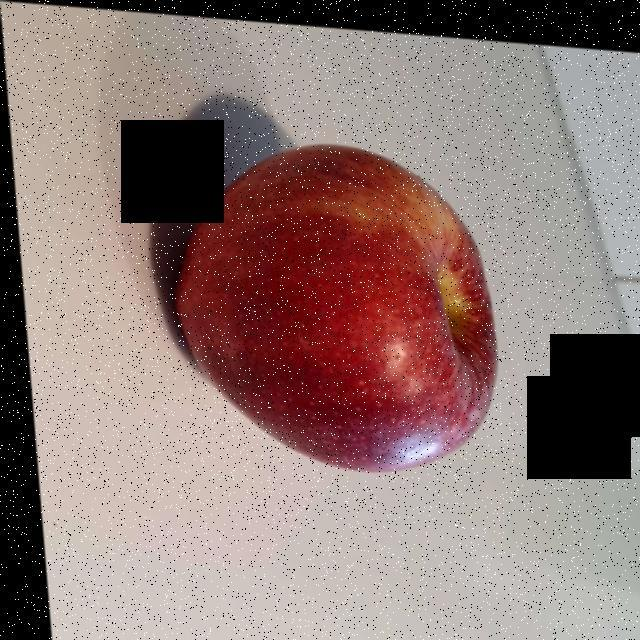apple: (178, 141, 490, 464)
